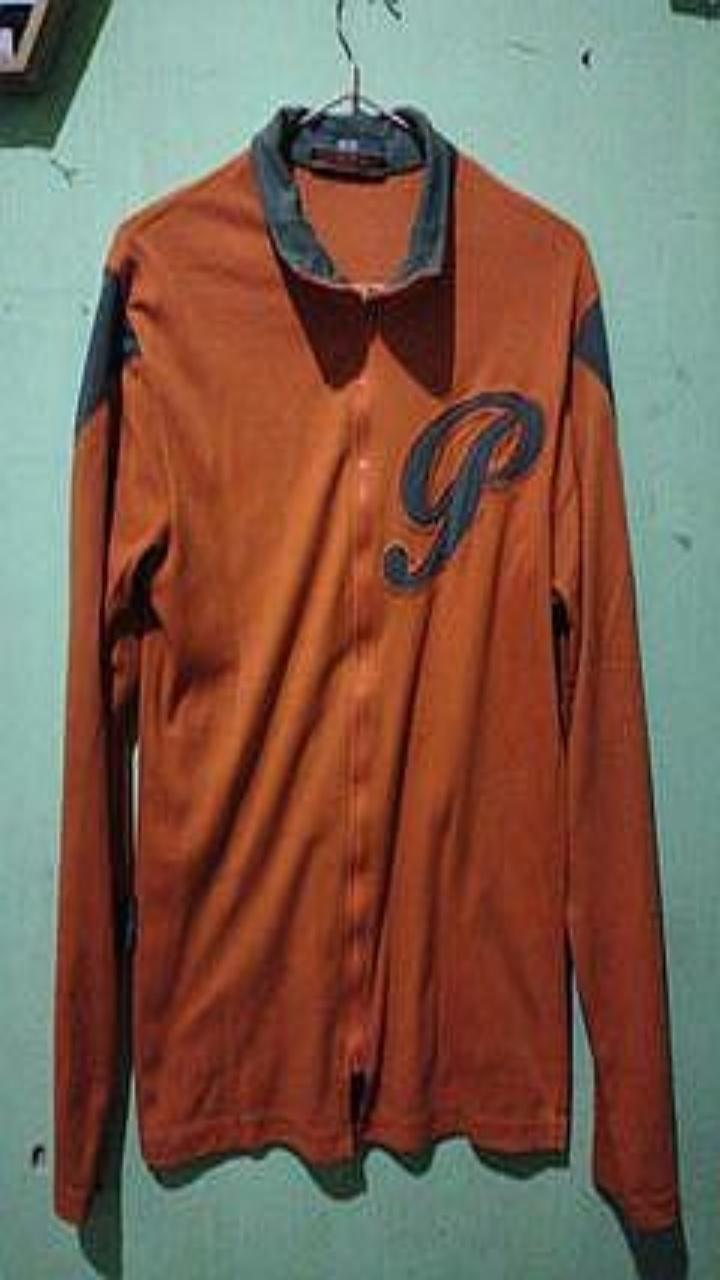Sports_Jacket: (54, 104, 679, 1227)
